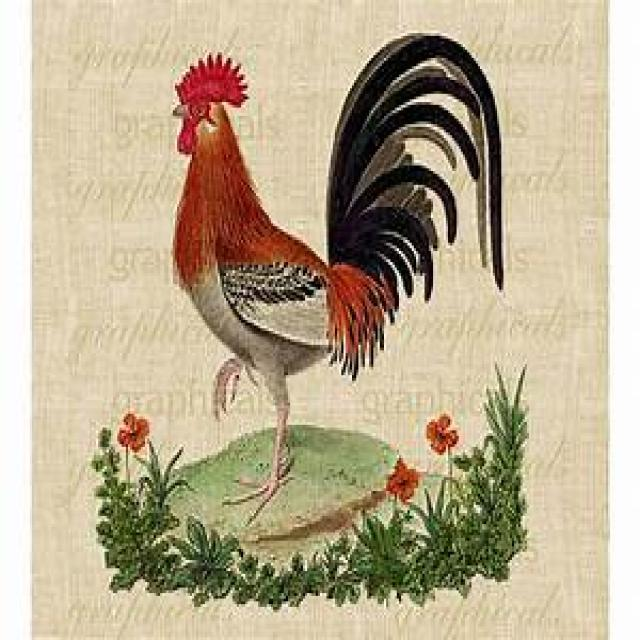hen: (173, 33, 501, 502)
